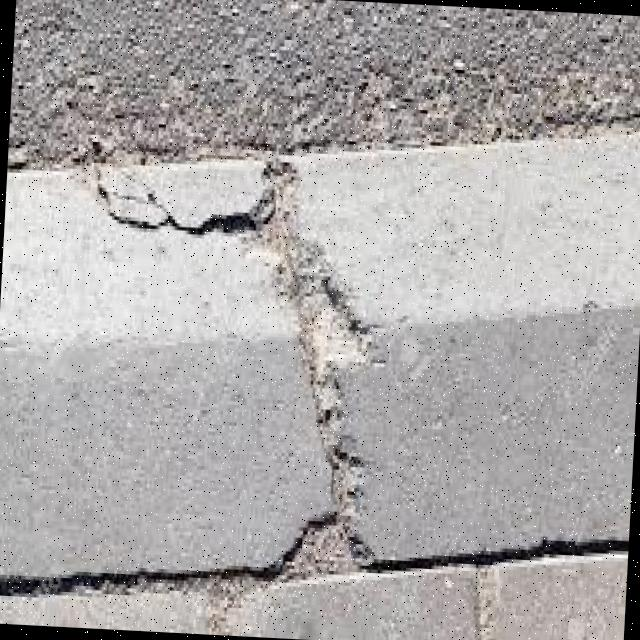curb: (1, 132, 640, 594)
